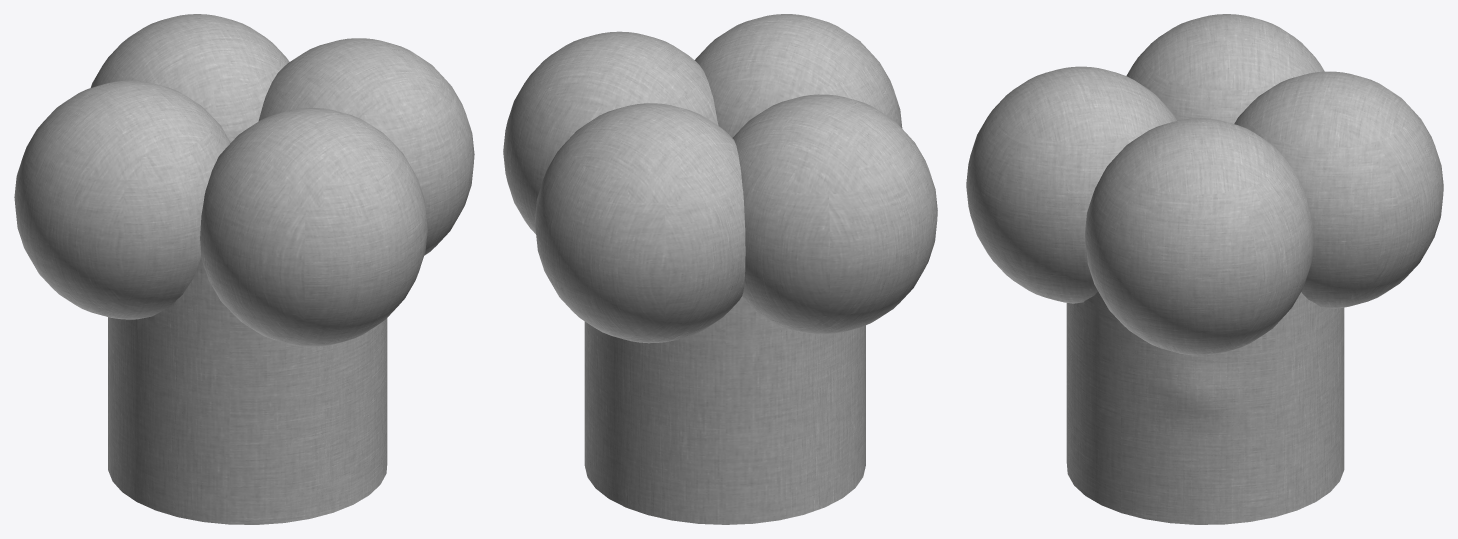
The model's file is Chef hat.glb.
The picture shows the model from 3 angles, left to right: view 1: azimuth 30°, elevation 25°; view 2: azimuth 150°, elevation 25°; view 3: azimuth 270°, elevation 25°; orthographic projection.
Visible parts, largest first — view 1: Chef Cap; view 2: Chef Cap; view 3: Chef Cap.
Part boxes in pixels (box(x1,y1,x2,y2)): Chef Cap: box(14, 14, 474, 524); Chef Cap: box(503, 14, 937, 524); Chef Cap: box(966, 14, 1443, 524).
Bounding box in the file's own units: 0.4423 × 0.3997 × 0.4434.
1 material, 1 textured.
